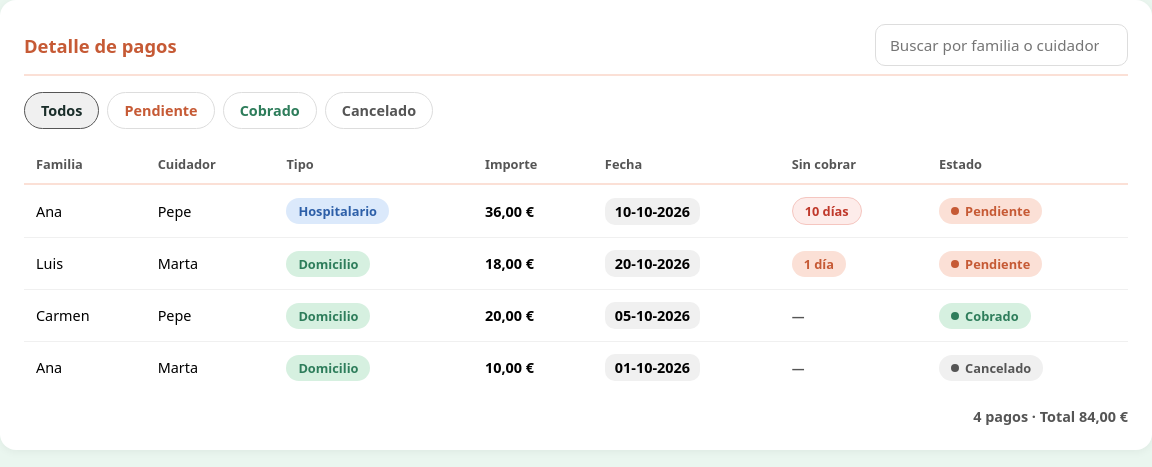
Scenario: AdminPagosTabla › si nada coincide con la búsqueda lo dice
The image size is (1152, 467).
In the search field with placeholder "Buscar por familia o cuidador": point(1002, 45) x1=875 y1=24 x2=1128 y2=66, type "zzz"
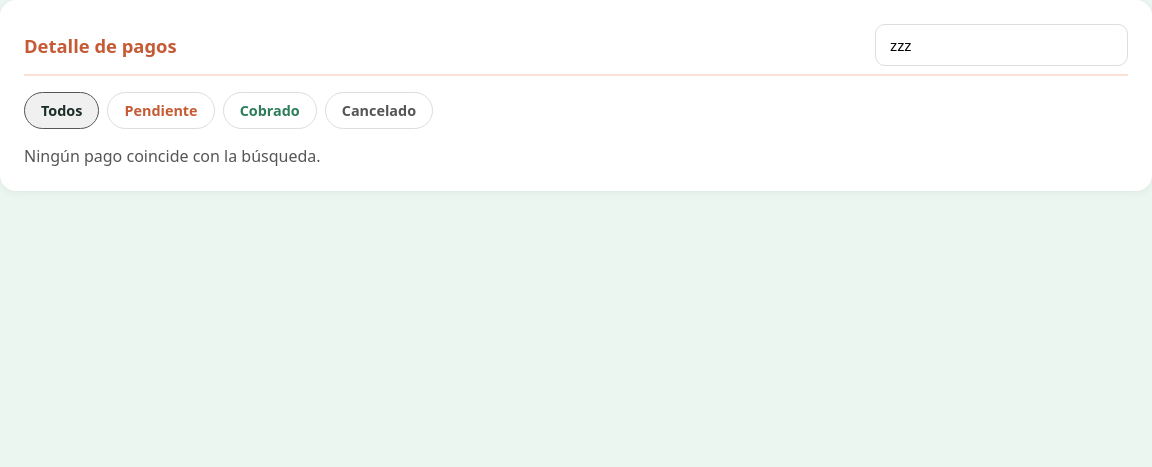
Expected: the text "Ningún pago coincide con la búsqueda." is shown, x1=24 y1=145 x2=321 y2=167
